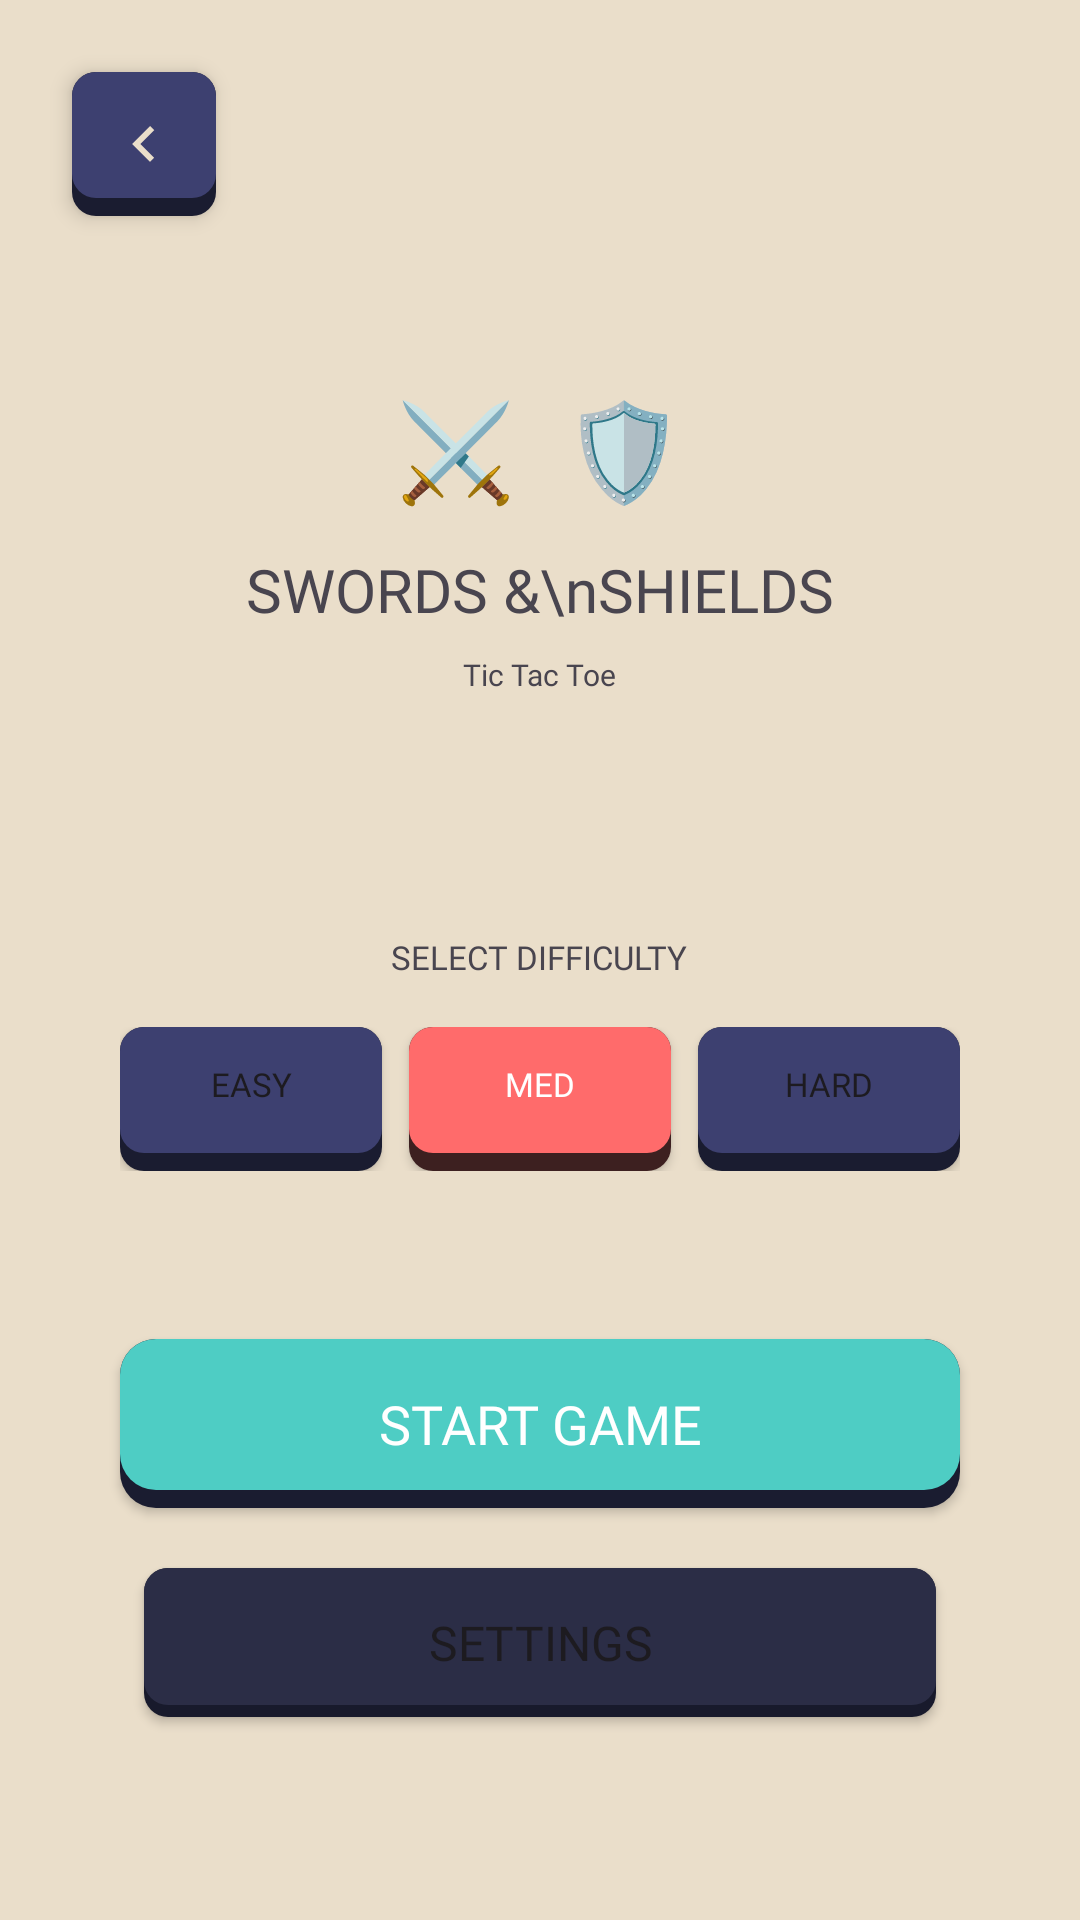

Named icons in this screenshot (1080*1920) and their centers, (x=x, y=y):
Go Back: (x=144, y=144)
